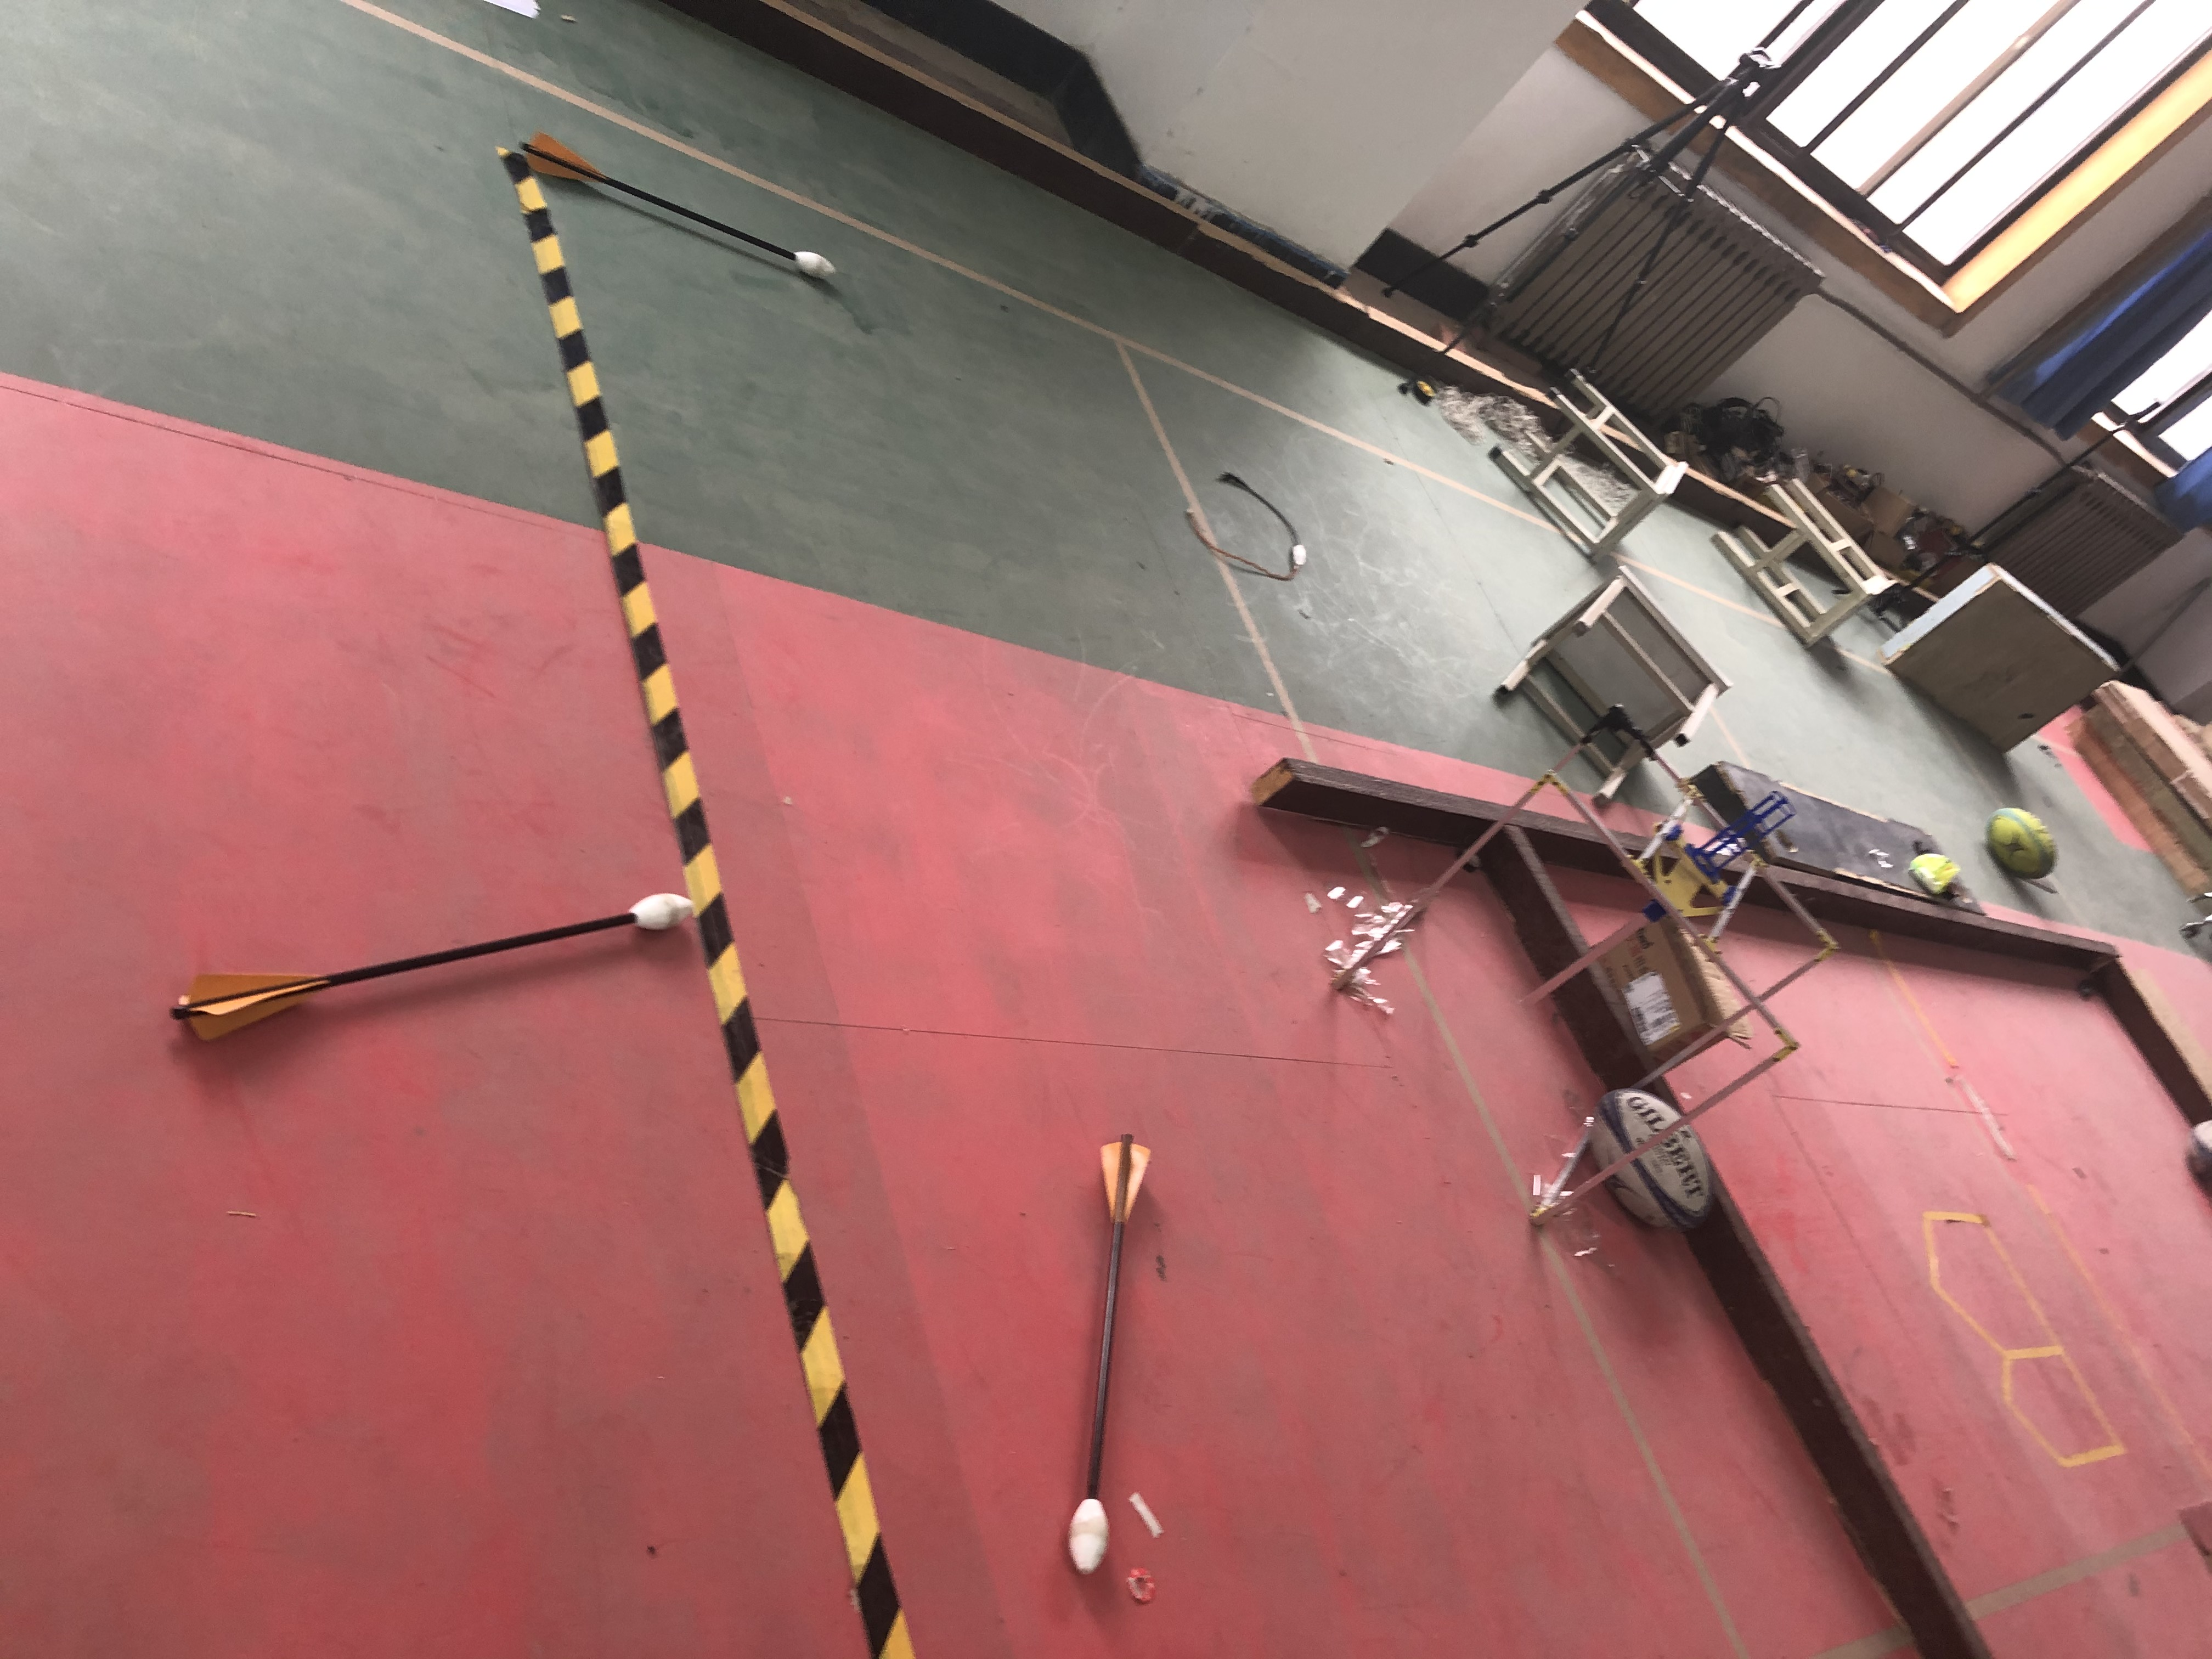arrow: (165, 896, 721, 1053), (514, 122, 843, 282), (1049, 1124, 1160, 1584)
arrowFront: (1069, 1492, 1115, 1575), (620, 894, 704, 927), (791, 247, 850, 282)
